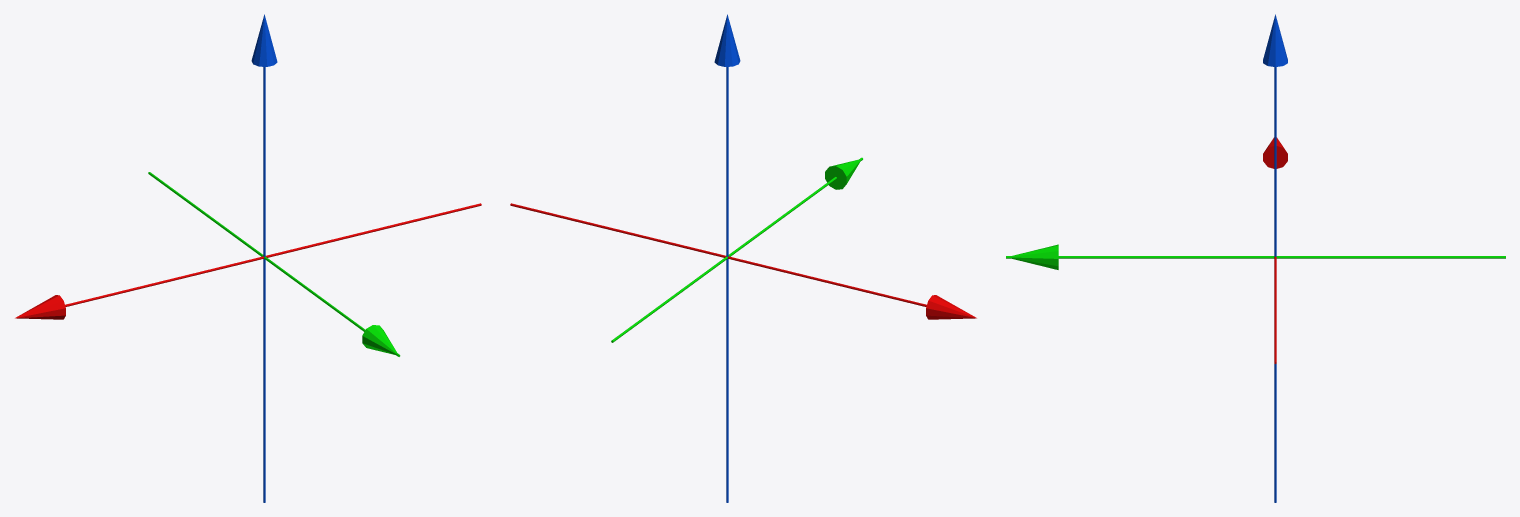
The model's file is axis.fbx.
The picture shows the model from 3 angles, left to right: view 1: azimuth 30°, elevation 25°; view 2: azimuth 150°, elevation 25°; view 3: azimuth 270°, elevation 25°; orthographic projection.
Parts seen in each view (by area): view 1: polySurface2; view 2: polySurface2; view 3: polySurface2.
Part boxes in pixels (left/top/right/bottom): polySurface2: left=15, top=14, right=481, bottom=502; polySurface2: left=510, top=14, right=976, bottom=502; polySurface2: left=1006, top=14, right=1505, bottom=502.
Bounding box in the file's own units: 20.51 × 20.51 × 19.03.
